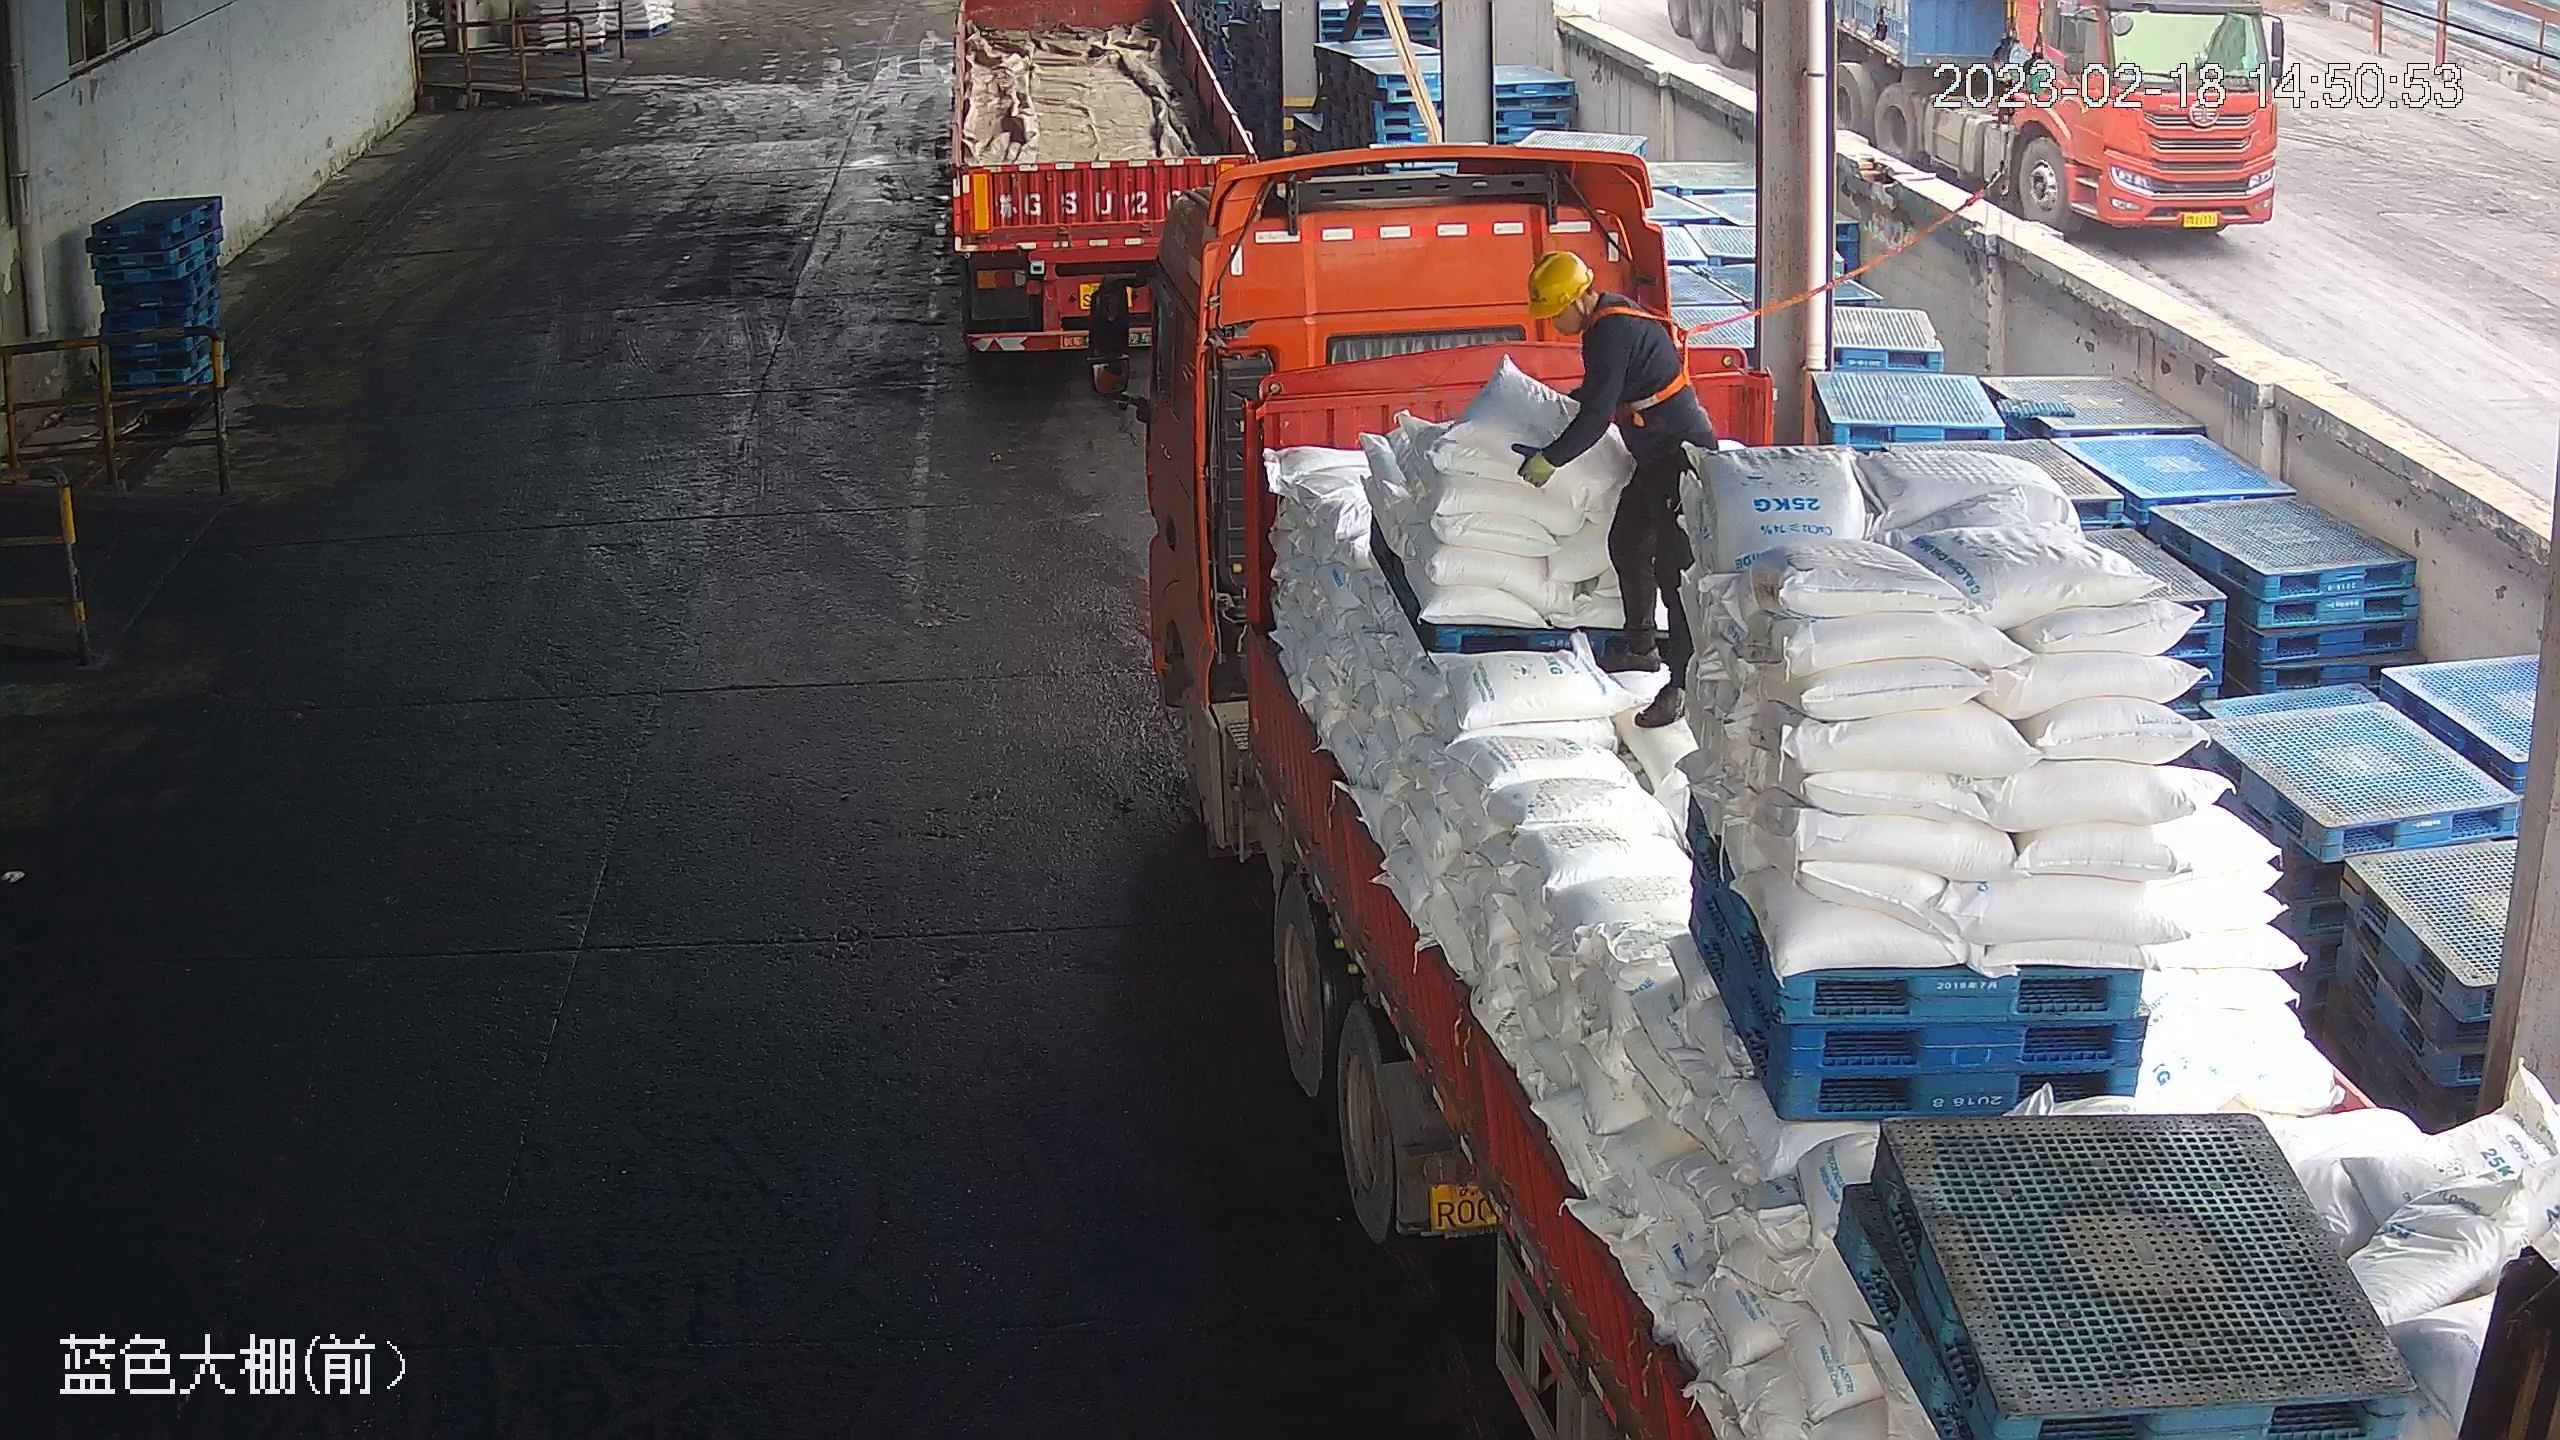belt: (1593, 293, 1702, 418)
head: (1525, 247, 1669, 370)
helmet: (1524, 246, 1594, 323)
people: (1514, 247, 1726, 738)
truck: (1047, 172, 2556, 1439), (927, 4, 1292, 399)
